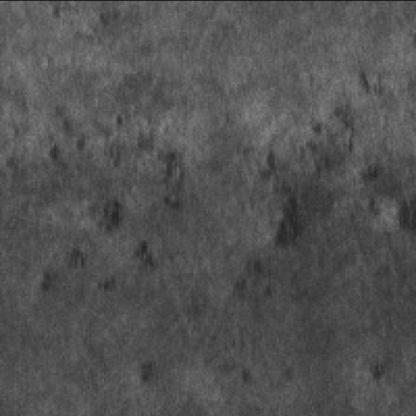rolled-in_scale: (233, 81, 410, 283), (56, 106, 187, 252)
